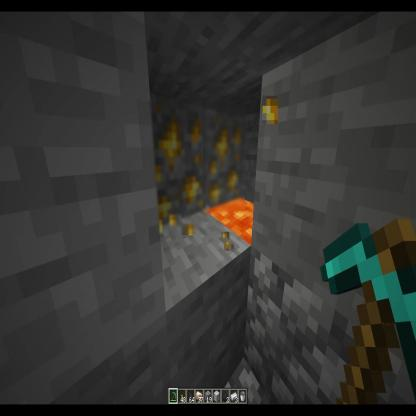gold ore: (149, 99, 206, 234), (203, 102, 245, 211)
